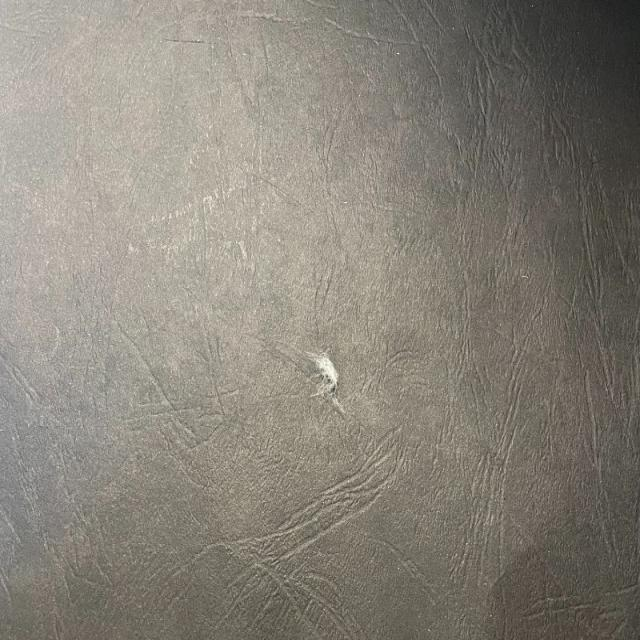feather: (306, 354, 338, 399)
